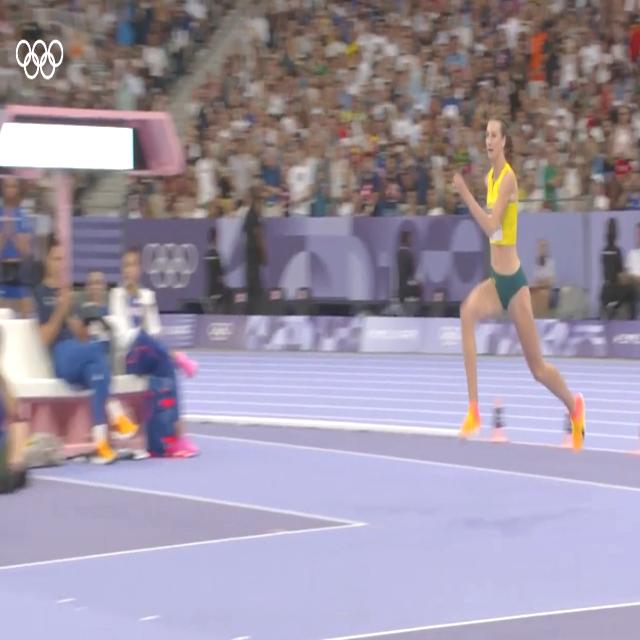run: (453, 117, 586, 443)
